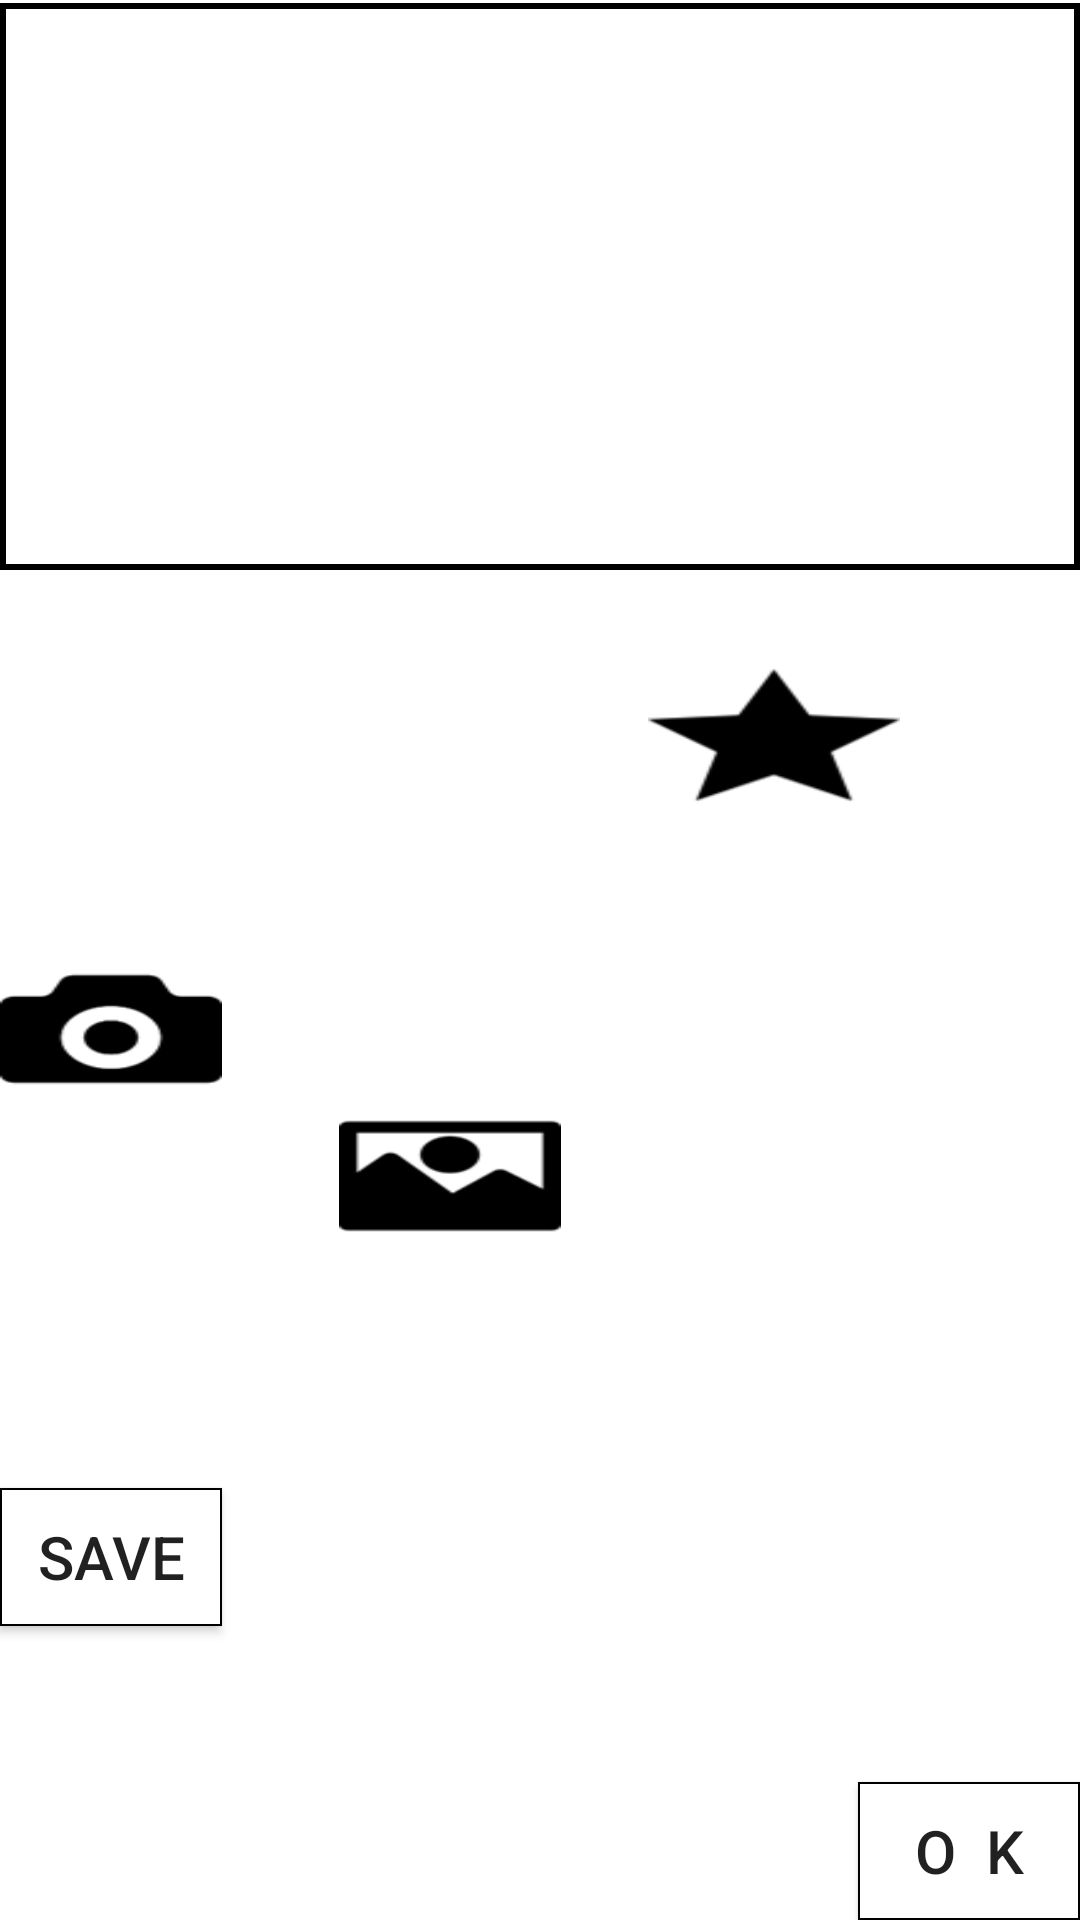

Icons on this 1080w x 1920h Android screen, each with the point to tap as [x,y]:
cam: [111,1029]
